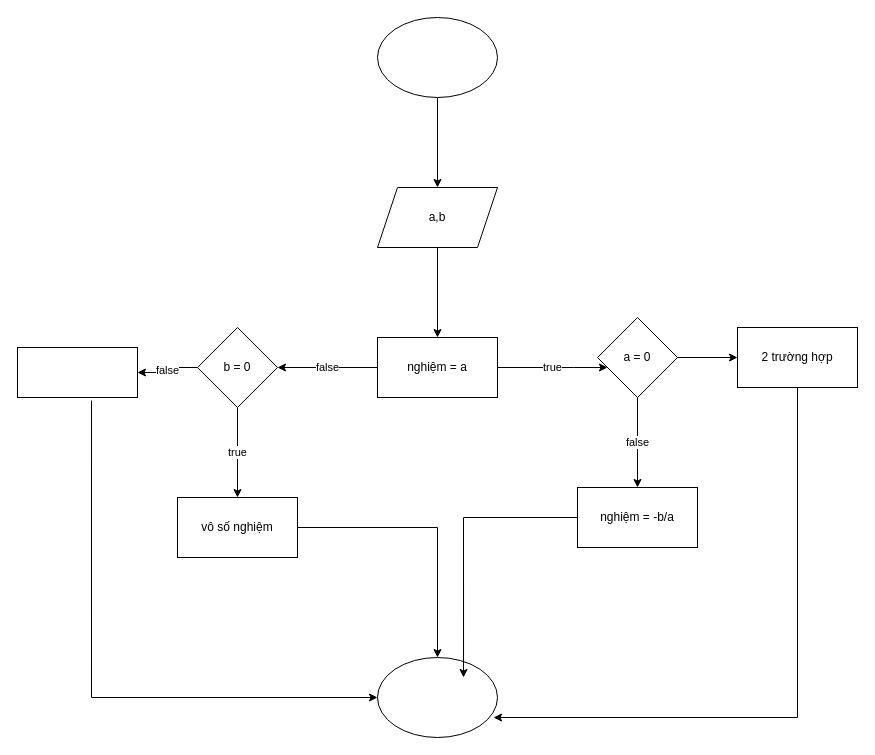
The diagram is 875 pixels wide and 755 high, and some of its shapes have lost their labels. Each missing label, with the centre of its shape:
"end" belongs at pixel 437 697.
"start" belongs at pixel 437 57.
"vô nghiệm" belongs at pixel 77 372.
